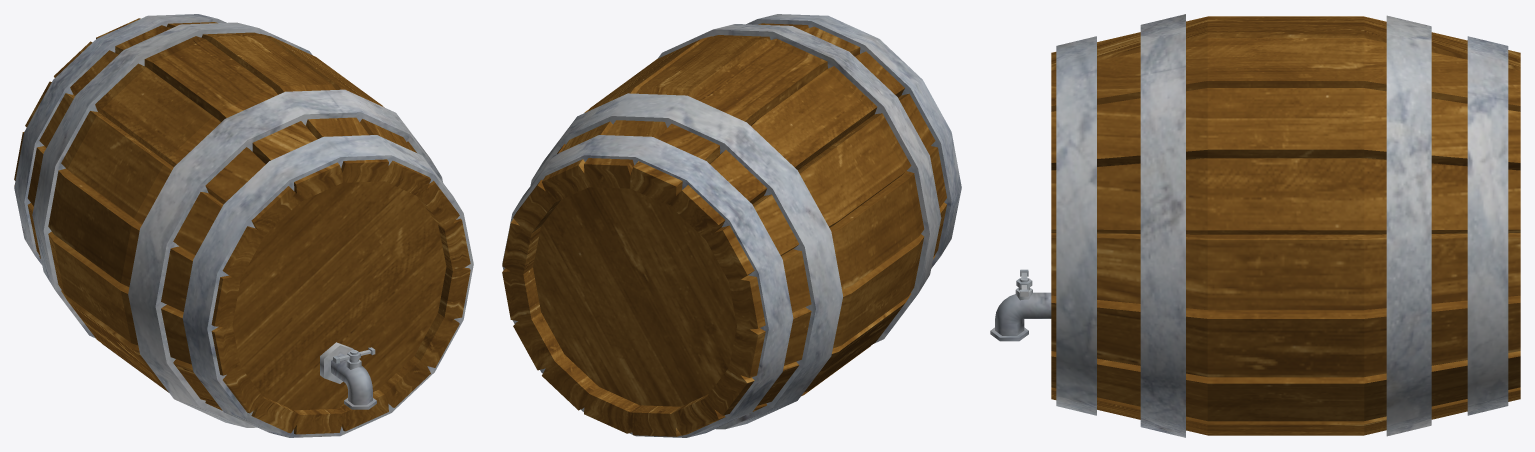
The model's file is BarrilTorneira.fbx.
3 renders of one model, left to right at view 1: azimuth 30°, elevation 25°; view 2: azimuth 150°, elevation 25°; view 3: azimuth 270°, elevation 25°, orthographic. The views are drawn at different scales.
Visible parts, largest first — view 1: BarrilRum; view 2: BarrilRum; view 3: BarrilRum.
Boxes of the visible parts, x1=… form: BarrilRum: x1=14, y1=14, x2=473, y2=437; BarrilRum: x1=502, y1=14, x2=961, y2=437; BarrilRum: x1=990, y1=14, x2=1520, y2=437.
Size of the model in its own units: 92.93 by 92.93 by 116.
